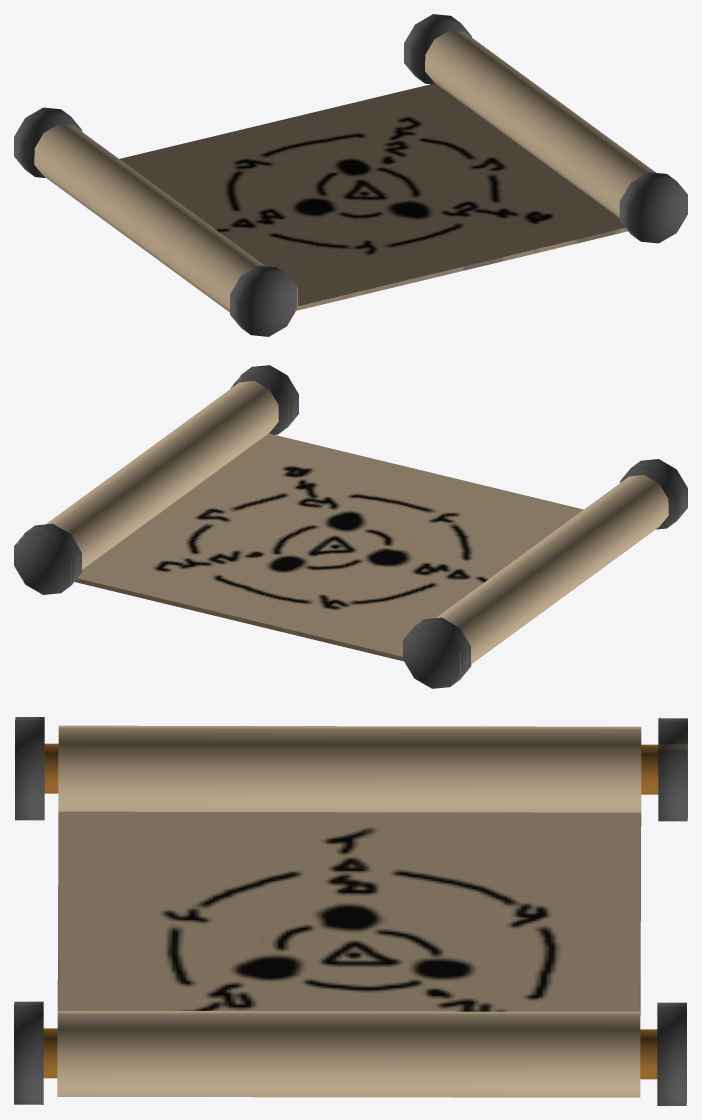
The model's file is Scroll.fbx.
3 renders of one model, top to bottom at view 1: azimuth 30°, elevation 25°; view 2: azimuth 150°, elevation 25°; view 3: azimuth 270°, elevation 25°, orthographic. The views are drawn at different scales.
Visible parts, largest first — view 1: Scroll; view 2: Scroll; view 3: Scroll.
Boxes of the visible parts, left/top/right/bottom form: Scroll: left=14, top=14, right=687, bottom=336; Scroll: left=14, top=365, right=687, bottom=688; Scroll: left=14, top=717, right=687, bottom=1105.
Size of the model in its own units: 23.59 by 3.31 by 20.66.
1 material, 1 textured.
